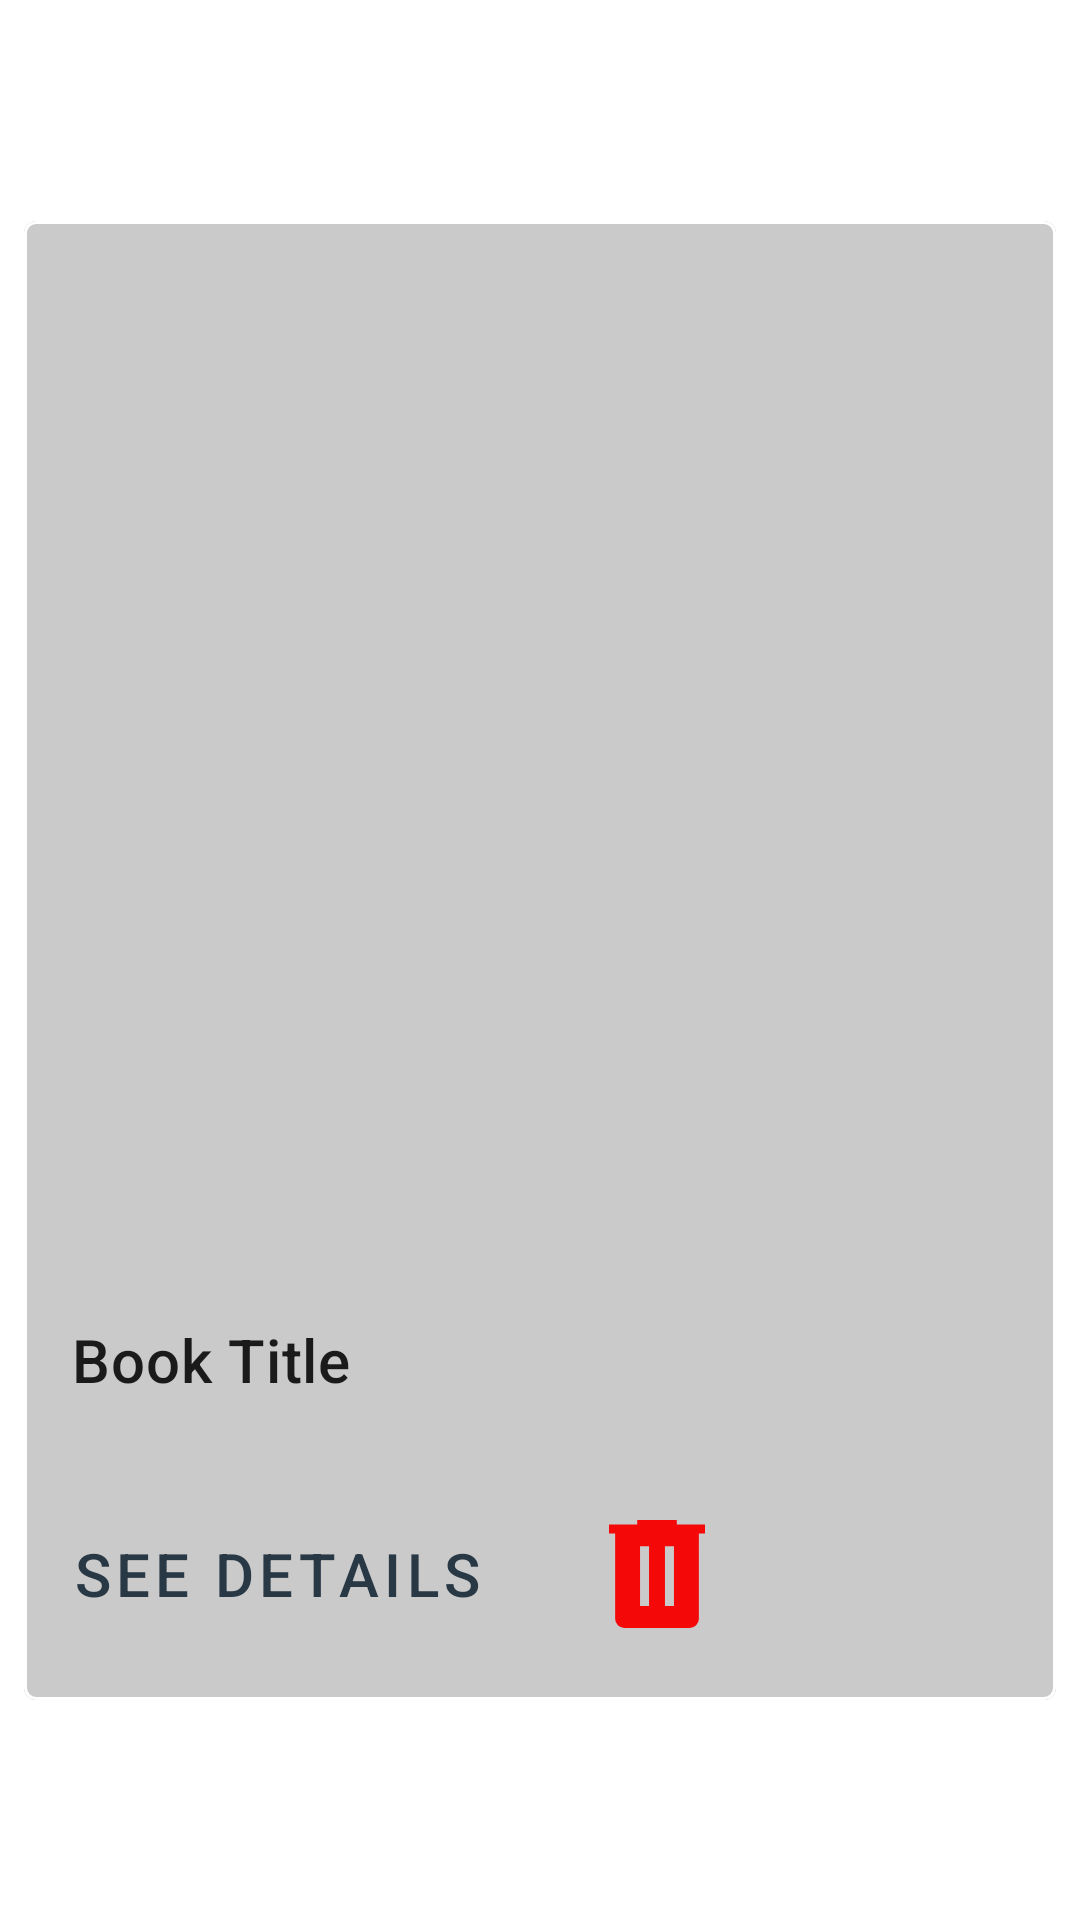

Point at icon controls on the screen. Image size 1080px x 1920px, points as (x=x, y=y).
delete: (x=657, y=1574)
